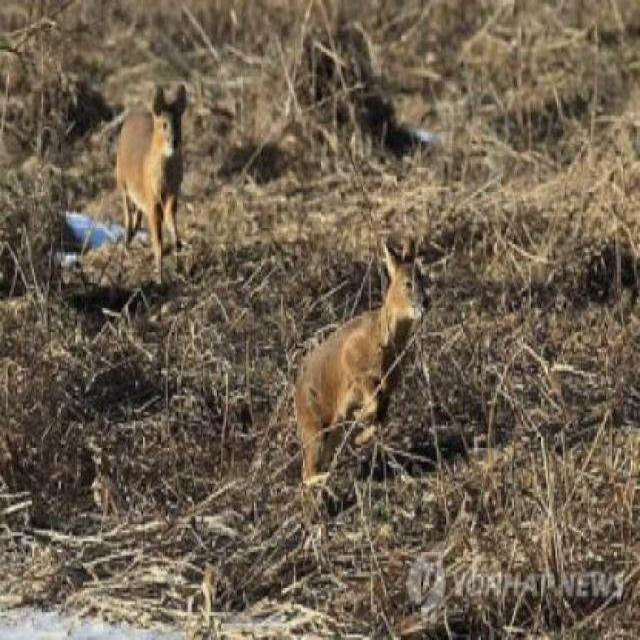deer: (284, 235, 434, 482), (113, 76, 192, 292)
